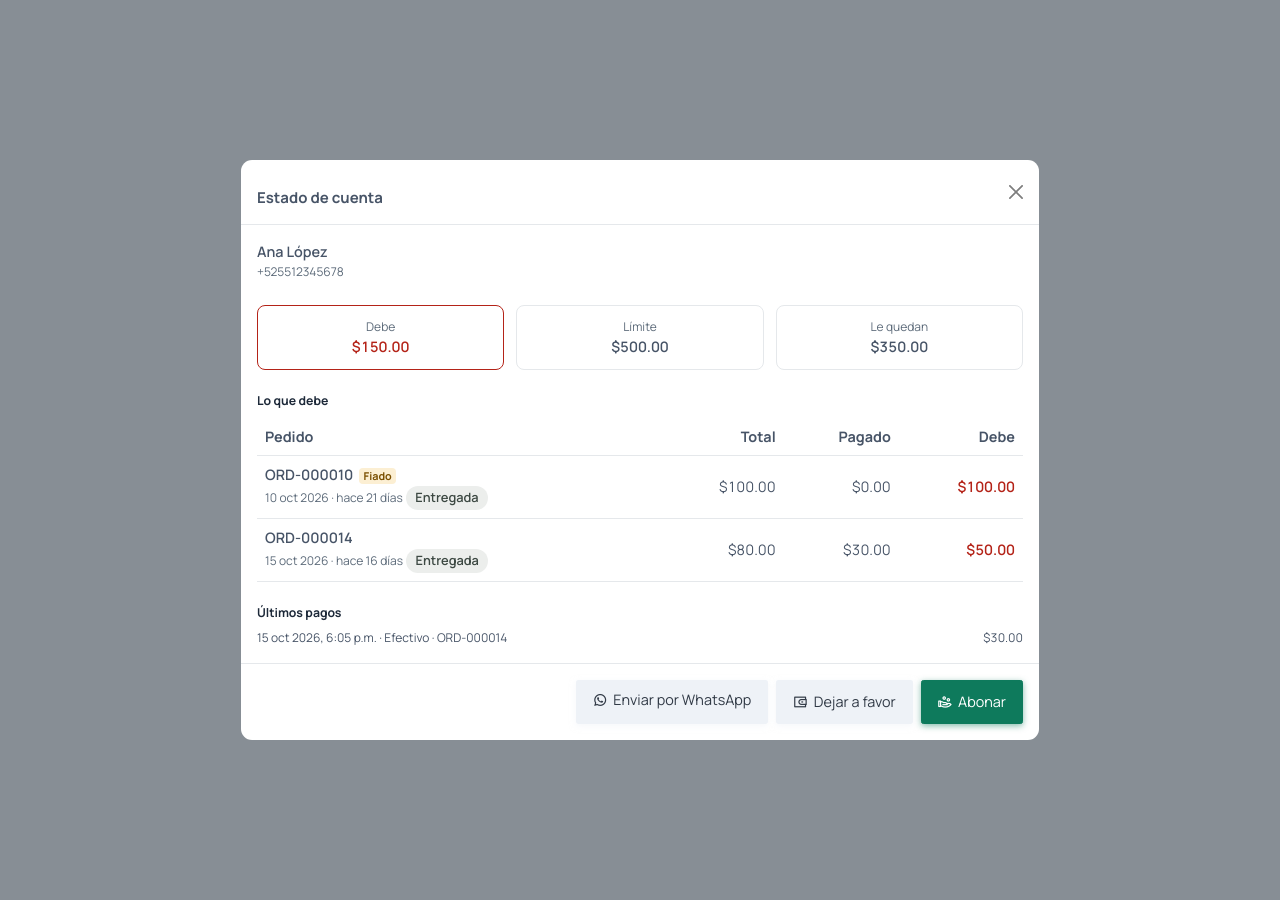
Scenario: CustomerAccountModal › closes the panel when one payment went through and the next did not, so a retry never sends it again
Click the button "Abonar" at (972, 702), box [921,680,1023,724]
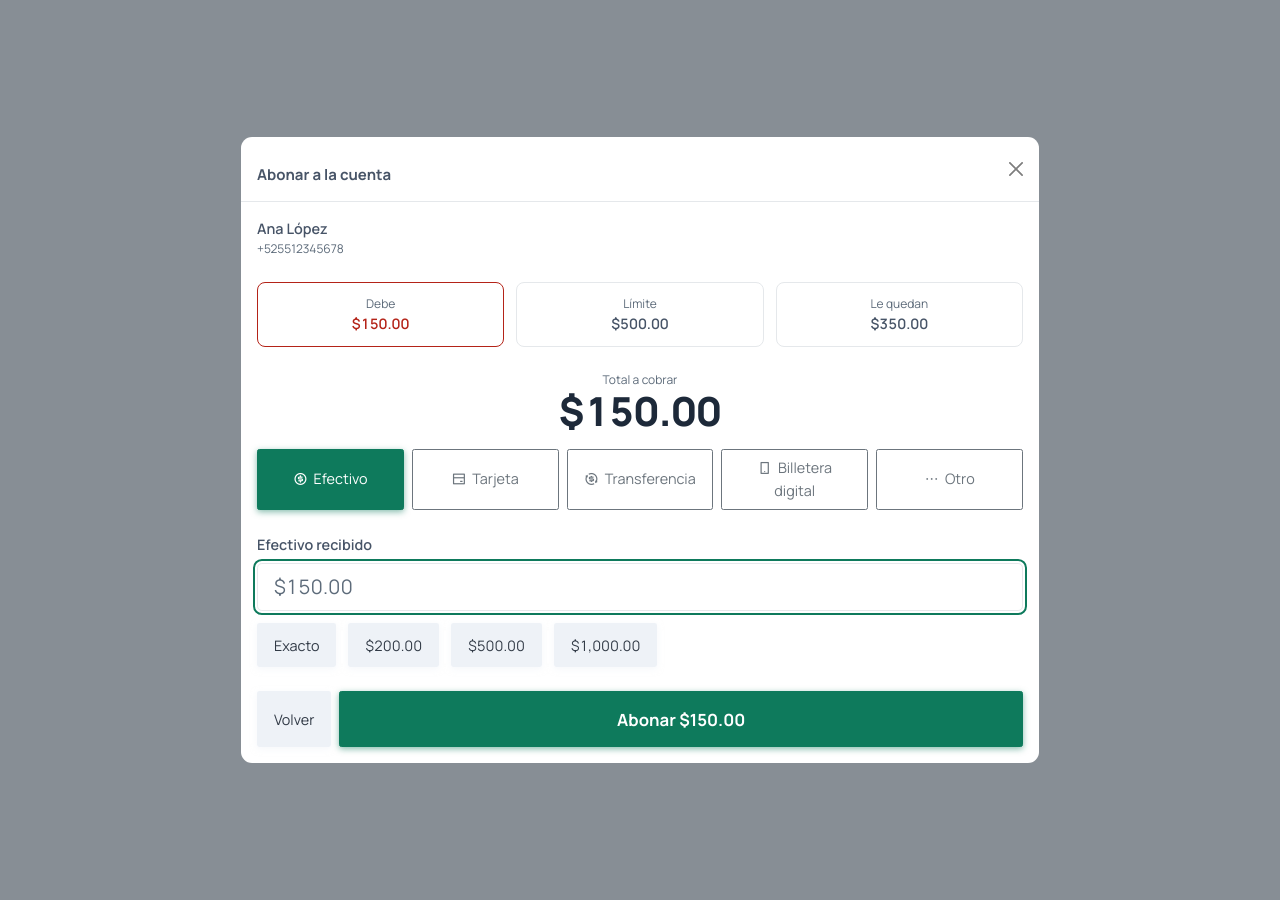
Type "100" into the field labelled "Efectivo recibido" at (640, 587), box [257,563,1023,611]
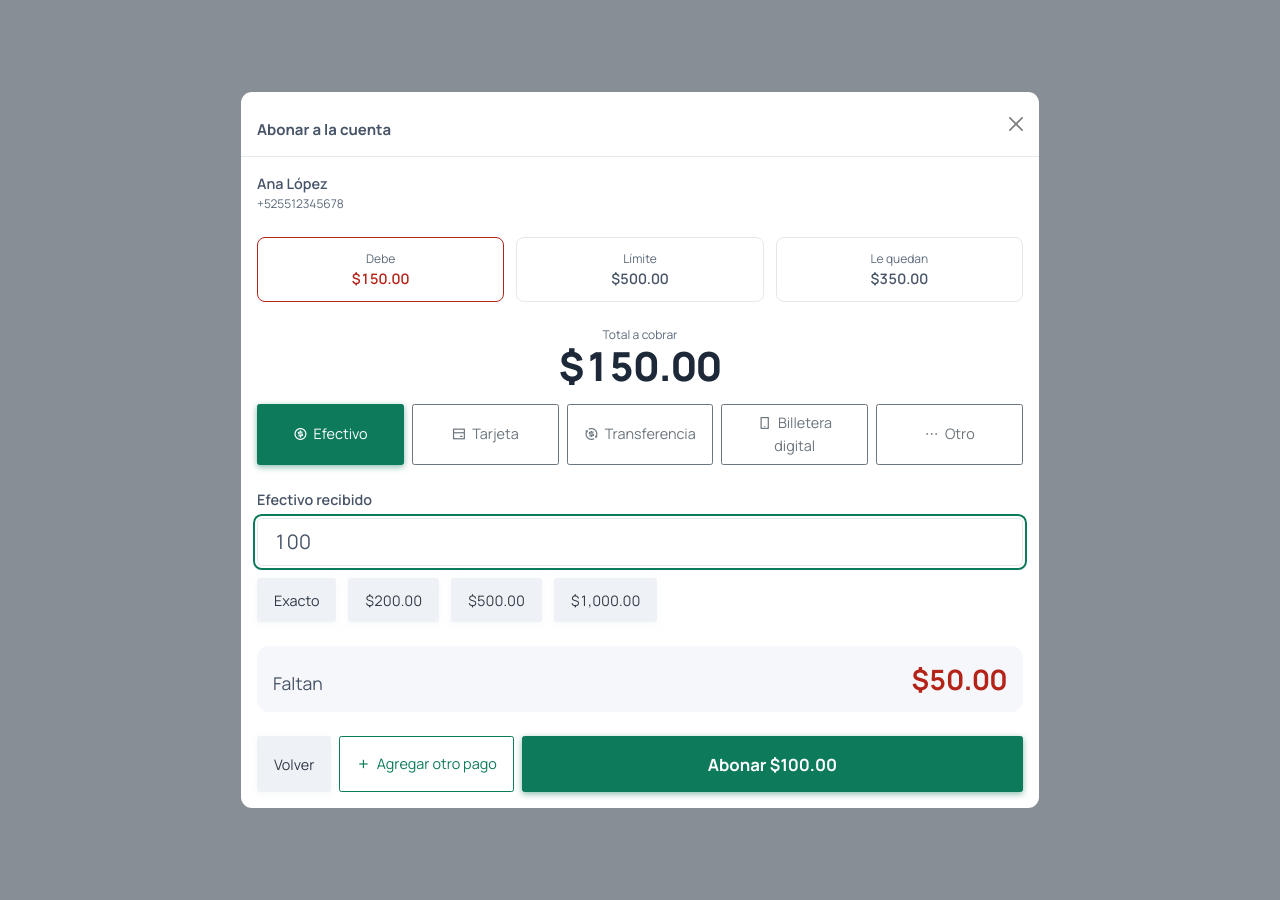
Click the button "Agregar otro pago" at (426, 764), box [339,736,514,792]
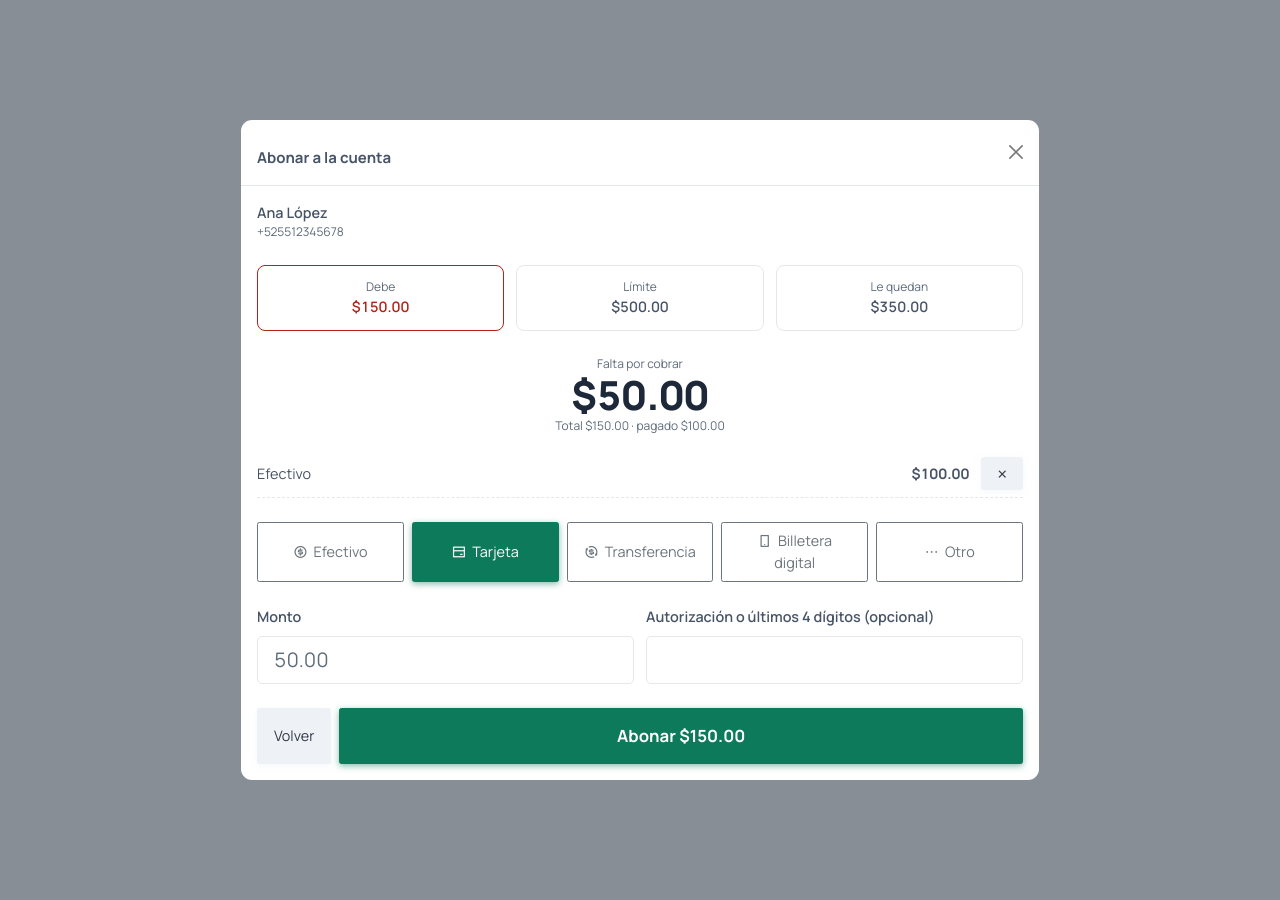
Click the button "Abonar $150.00" at (681, 736), box [339,708,1023,764]
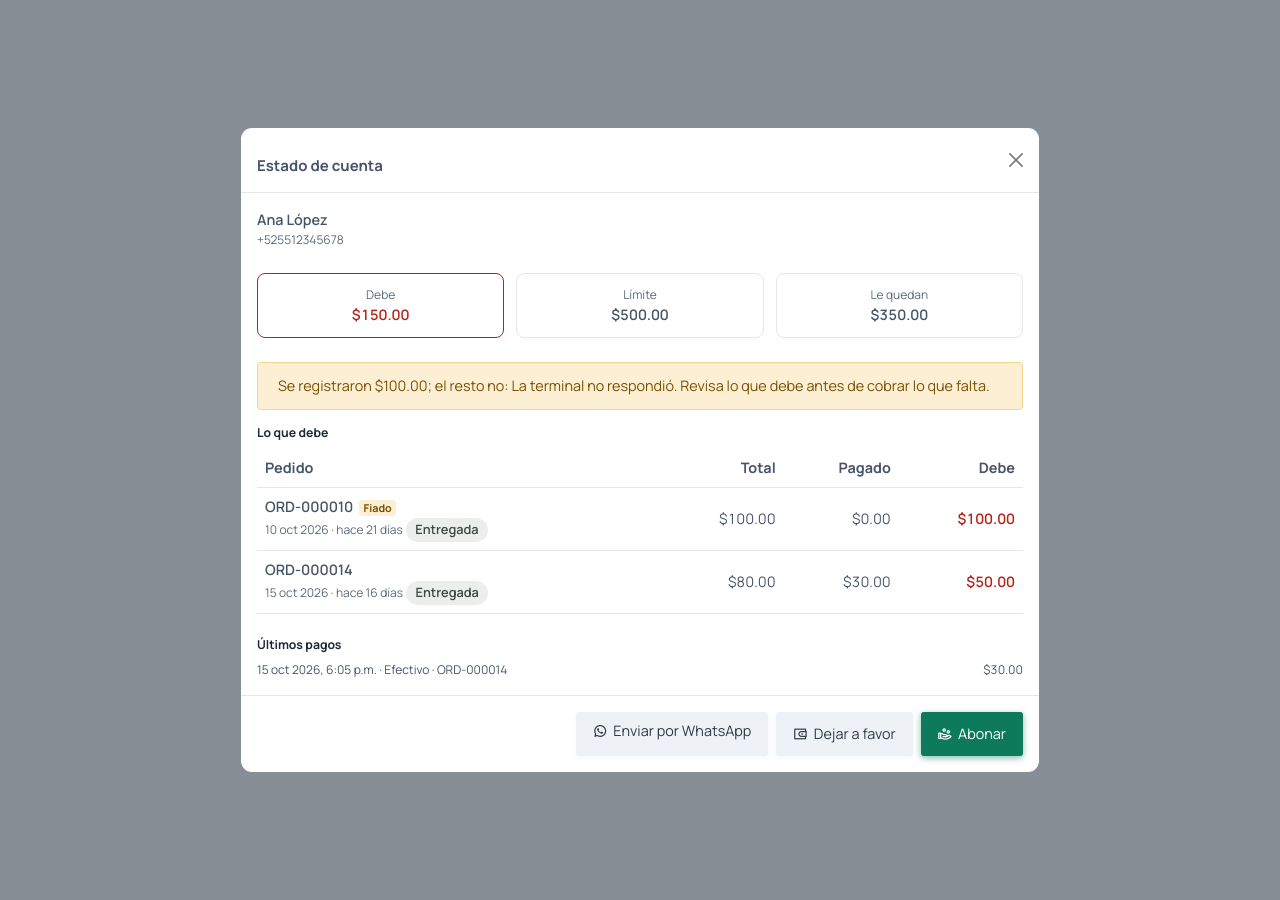
Expected: the label labelled "Efectivo recibido" is not shown
Now the text "Se registraron $100.00; el resto no: La terminal no respondió." is shown, box [278,376,990,395]
Now the dialog "Estado de cuenta" is shown, box [240,127,1040,773]
